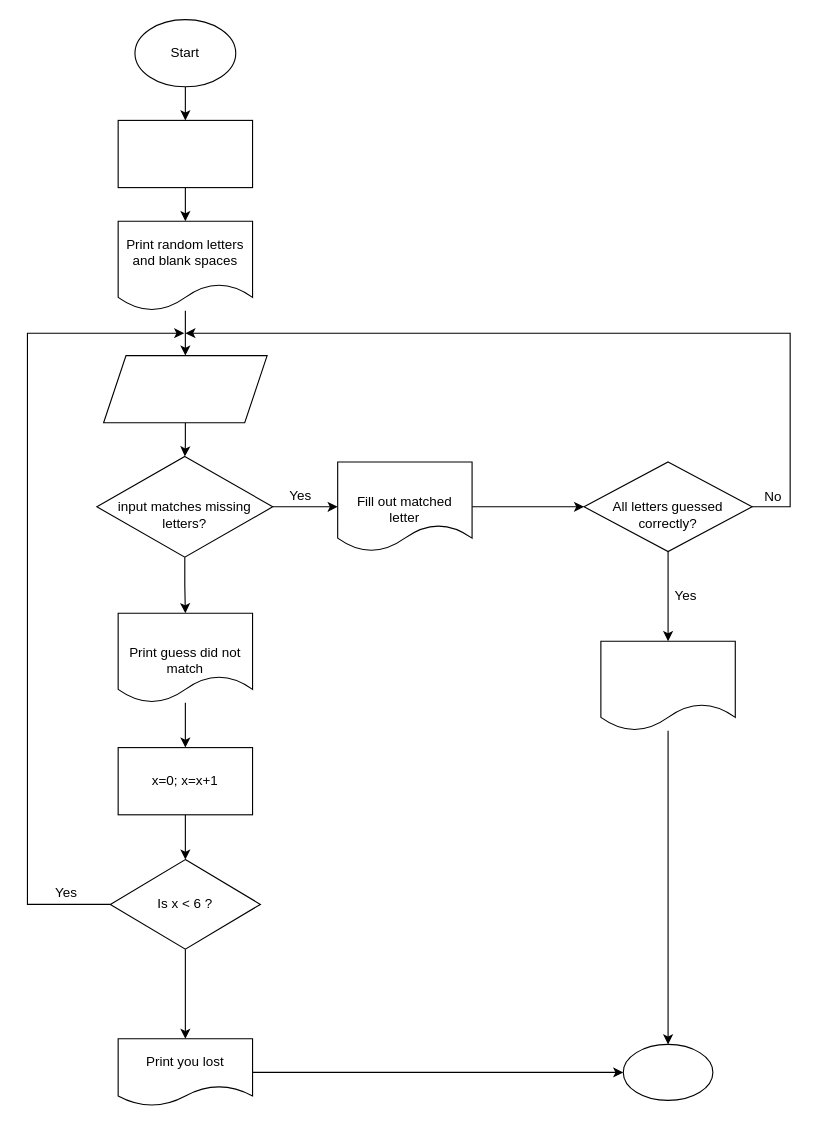
Image size: 827x1126. Some labels were removed from this diagram. Each missing label, with the centre of its shape:
Ask user to guess the missing letters: (184,388)
Print you won: (667,685)
Select random word: (185,153)
Stop: (667,1071)
